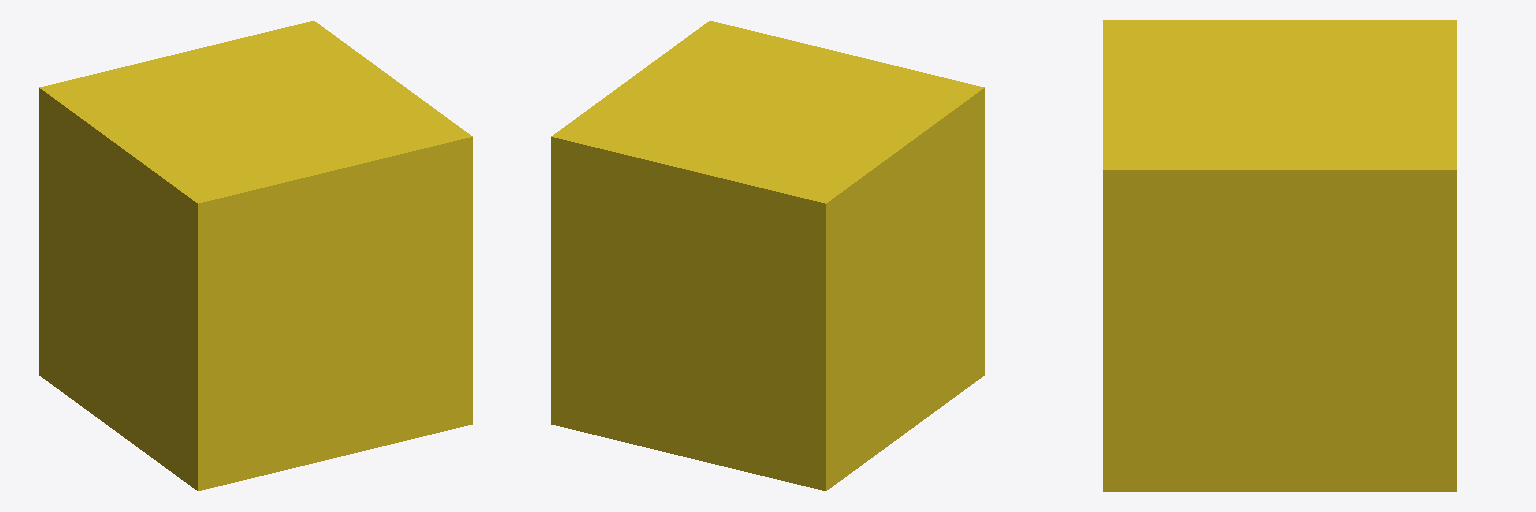
The robot description file, URDF, robot "dice":
<?xml version="1.0" ?>
<robot name="dice">
  <dynamics damping="0.5" friction="0.9"/>
  <link name="dice_link">
    <inertial>
      <mass value="0.1"/>
      <origin xyz="0 0 0"/>
      <inertia ixx="0.0015" ixy="0" ixz="0" iyy="0.0015" iyz="0" izz="0.0015"/>
    </inertial>
    <contact>
      <lateral_friction value="0.9"/>
      <rolling_friction value="0.5"/>
      <stiffness value="30000"/>
      <damping value="1000"/>
    </contact>
    <visual>
      <origin rpy="0 0 0" xyz="0 0 0"/>
      <geometry>
        <mesh filename="dice.obj" scale="1.0 1.0 1.0"/>
      </geometry>
      <material name="mat">
        <color rgba="0.9 0.8 0.2 0.8"/>
      </material>
    </visual>
    <collision name="dice">
      <origin rpy="0 0 0" xyz="0 0 0"/>
      <geometry>
        <mesh filename="dice.obj" scale="1.0 1.0 1.0"/>
      </geometry>
    </collision>
  </link>
</robot>

--- Facts derived from the render (not from the file) ---
The picture shows the robot from 3 angles, left to right: view 1: azimuth 30°, elevation 25°; view 2: azimuth 150°, elevation 25°; view 3: azimuth 270°, elevation 25°; orthographic projection.
Model dice with 1 links and 0 joints (none), rooted at dice_link, posed every joint at zero.
Links seen in each view (by area): view 1: dice_link; view 2: dice_link; view 3: dice_link.
Link boxes in pixels (x1,y1,x2,y2): dice_link: [39, 21, 472, 490]; dice_link: [551, 21, 984, 490]; dice_link: [1103, 20, 1456, 491].
Size in the robot's own frame: 0.3 by 0.3 by 0.3 metres.
1 mesh visuals loaded from 1 distinct referenced files (1 OBJ).
